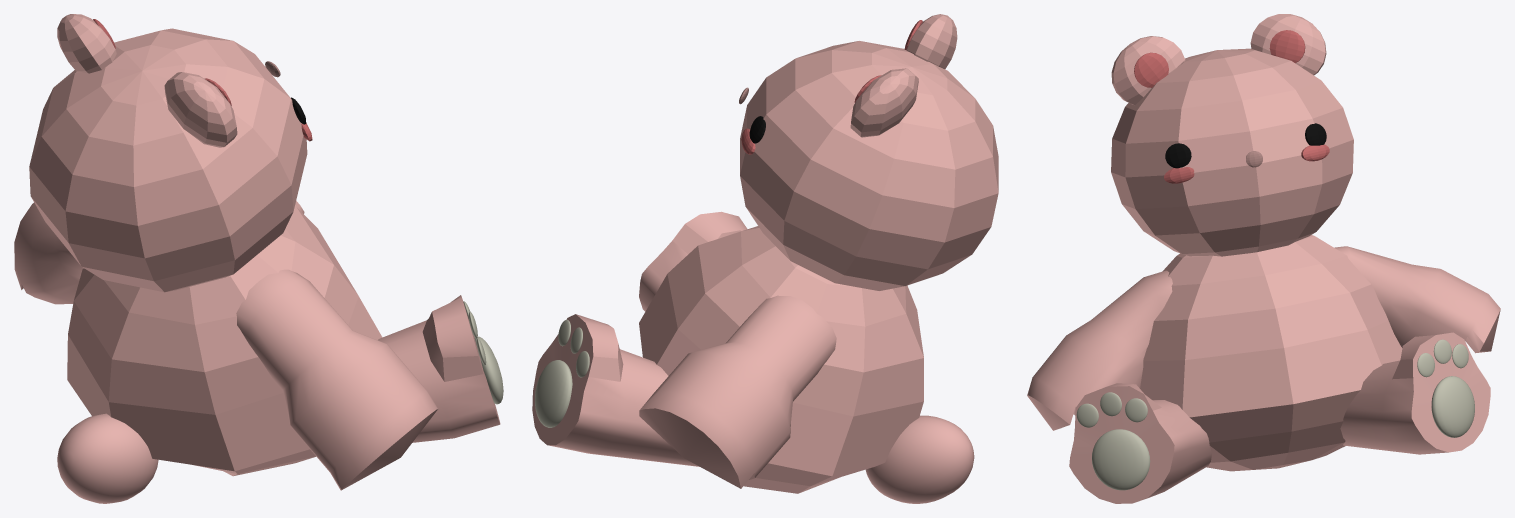
Rendered from Bear.fbx.
3 renders of one model, left to right at view 1: azimuth 30°, elevation 25°; view 2: azimuth 150°, elevation 25°; view 3: azimuth 270°, elevation 25°, orthographic. The views are drawn at different scales.
Visible parts, largest first — view 1: TeddyBearPink1; view 2: TeddyBearPink1; view 3: TeddyBearPink1.
Part boxes in pixels (bbox=[...]): TeddyBearPink1: bbox=[14, 14, 503, 503]; TeddyBearPink1: bbox=[532, 14, 998, 503]; TeddyBearPink1: bbox=[1027, 14, 1500, 503].
Bounding box in the file's own units: 4.75 × 5.34 × 5.69.
